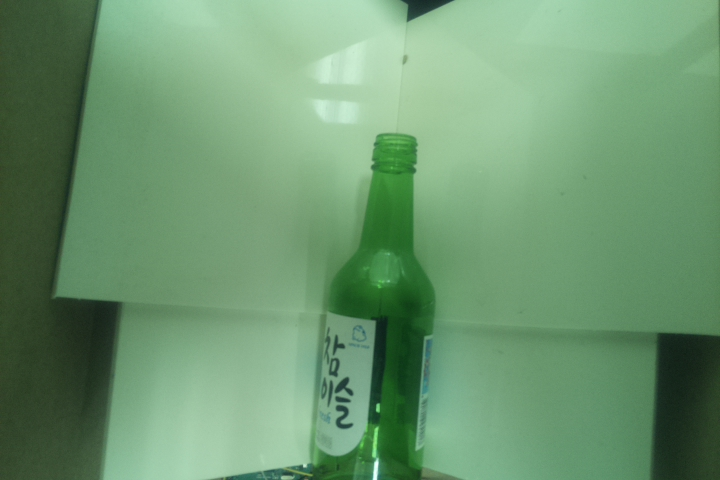soju: (311, 131, 438, 480)
